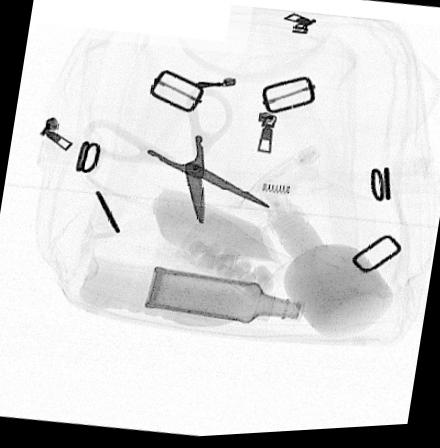Scissors: (80, 88, 270, 228)
